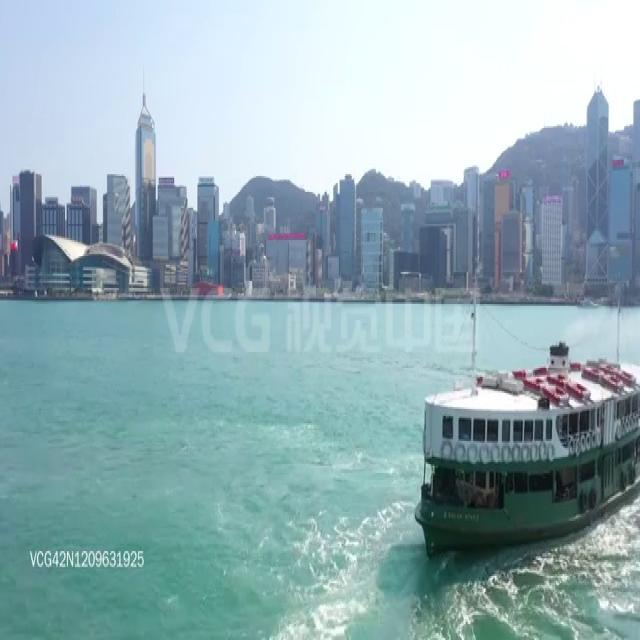passenger ship: (416, 295, 640, 551)
